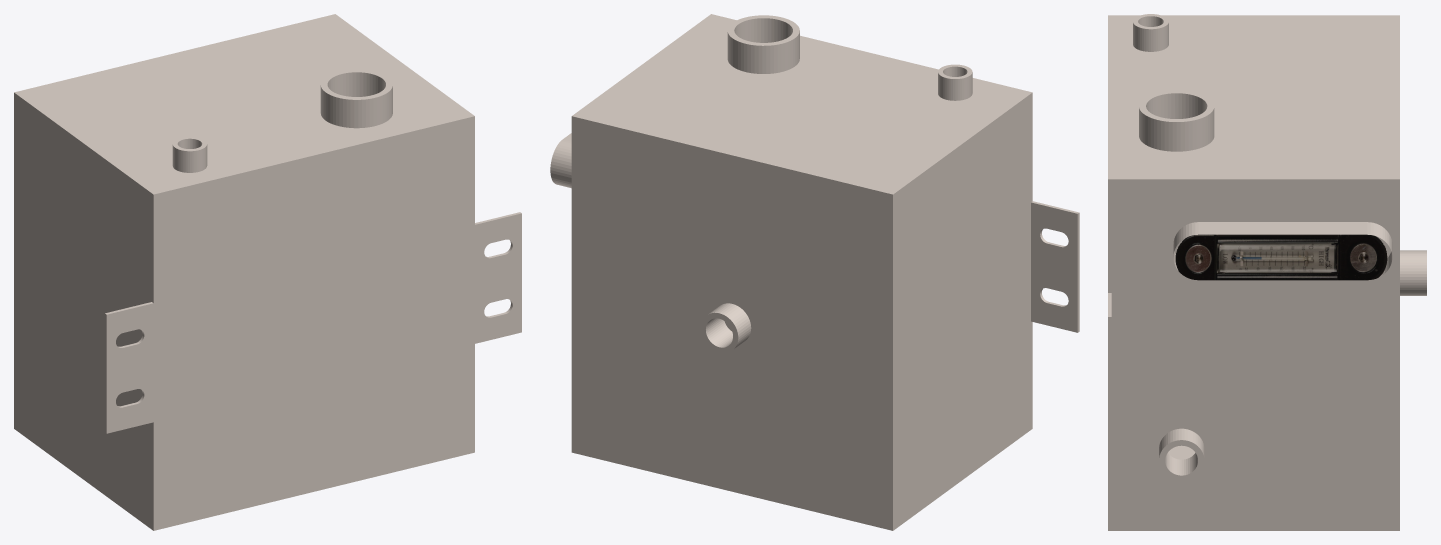
File: NorTrac 3gal Hydraulic Reservoir.glb
3 renders of one model, left to right at view 1: azimuth 30°, elevation 25°; view 2: azimuth 150°, elevation 25°; view 3: azimuth 270°, elevation 25°, orthographic. The views are drawn at different scales.
Visible parts, largest first — view 1: 3MFMeshParent_0; view 2: 3MFMeshParent_0; view 3: 3MFMeshParent_0.
Boxes of the visible parts, left/top/right/bottom form: 3MFMeshParent_0: left=14, top=14, right=521, bottom=530; 3MFMeshParent_0: left=550, top=14, right=1079, bottom=530; 3MFMeshParent_0: left=1108, top=14, right=1426, bottom=530.
Size of the model in its own units: 371 by 311 by 236.
2 materials, 1 textured.
